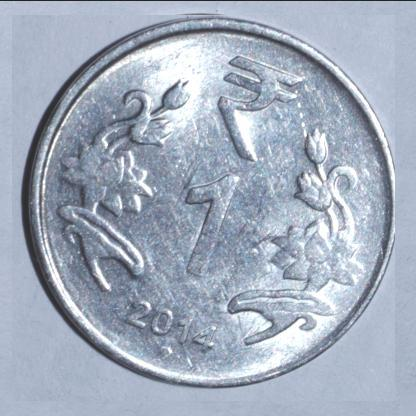coin: (19, 17, 396, 390)
